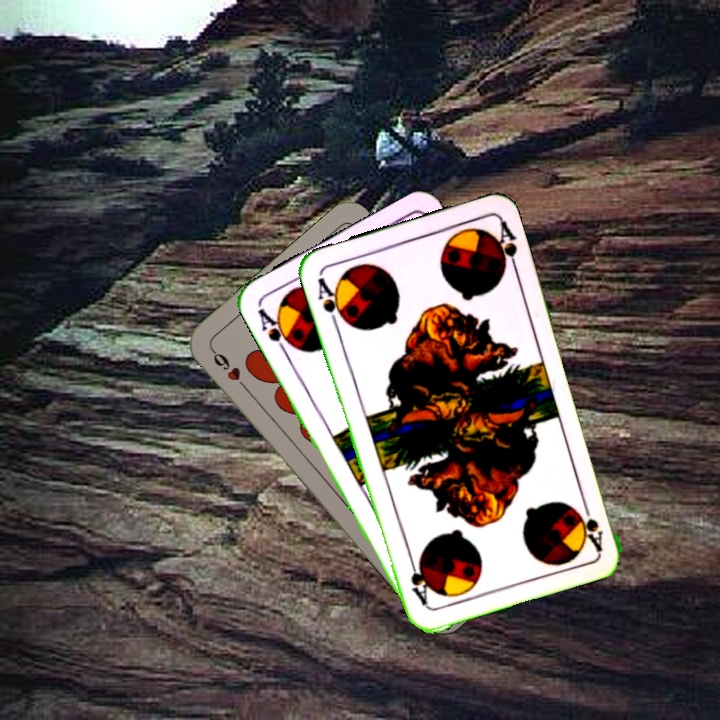H9: (207, 345, 251, 393)
SA: (253, 304, 298, 357), (313, 273, 349, 330), (574, 495, 606, 553)
